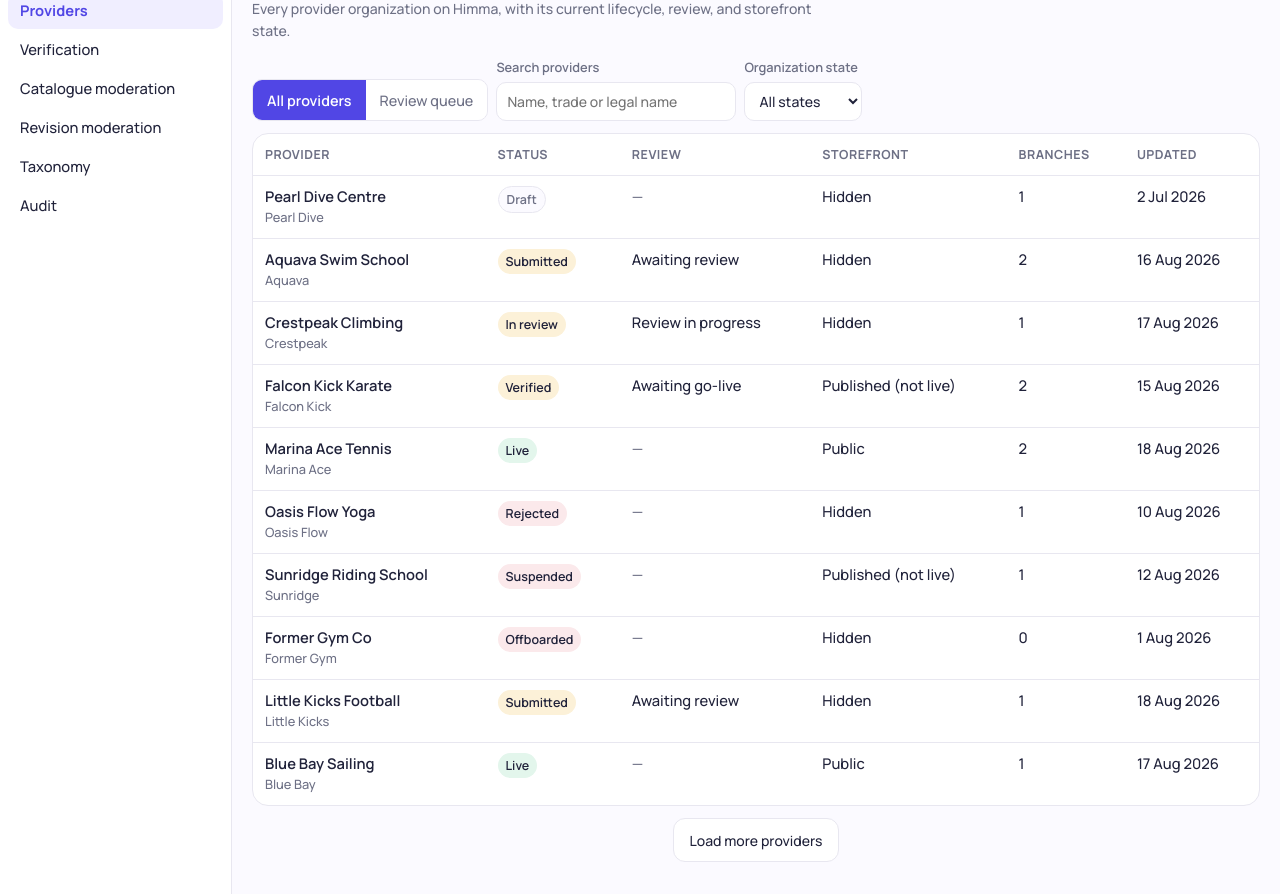
Test: provider directory (task §22) › pagination: Load more continues the SAME filtered set with a cursor; rows accumulate without duplicates
(page scrolled)
Check: the link "Marina Ace Tennis" is shown, box [265,438,392,458]
Check: the link "Skyjump Trampoline Park" is not shown
Click the button "Load more providers".
click(756, 840)  # box [673,818,839,862]
(page scrolled)
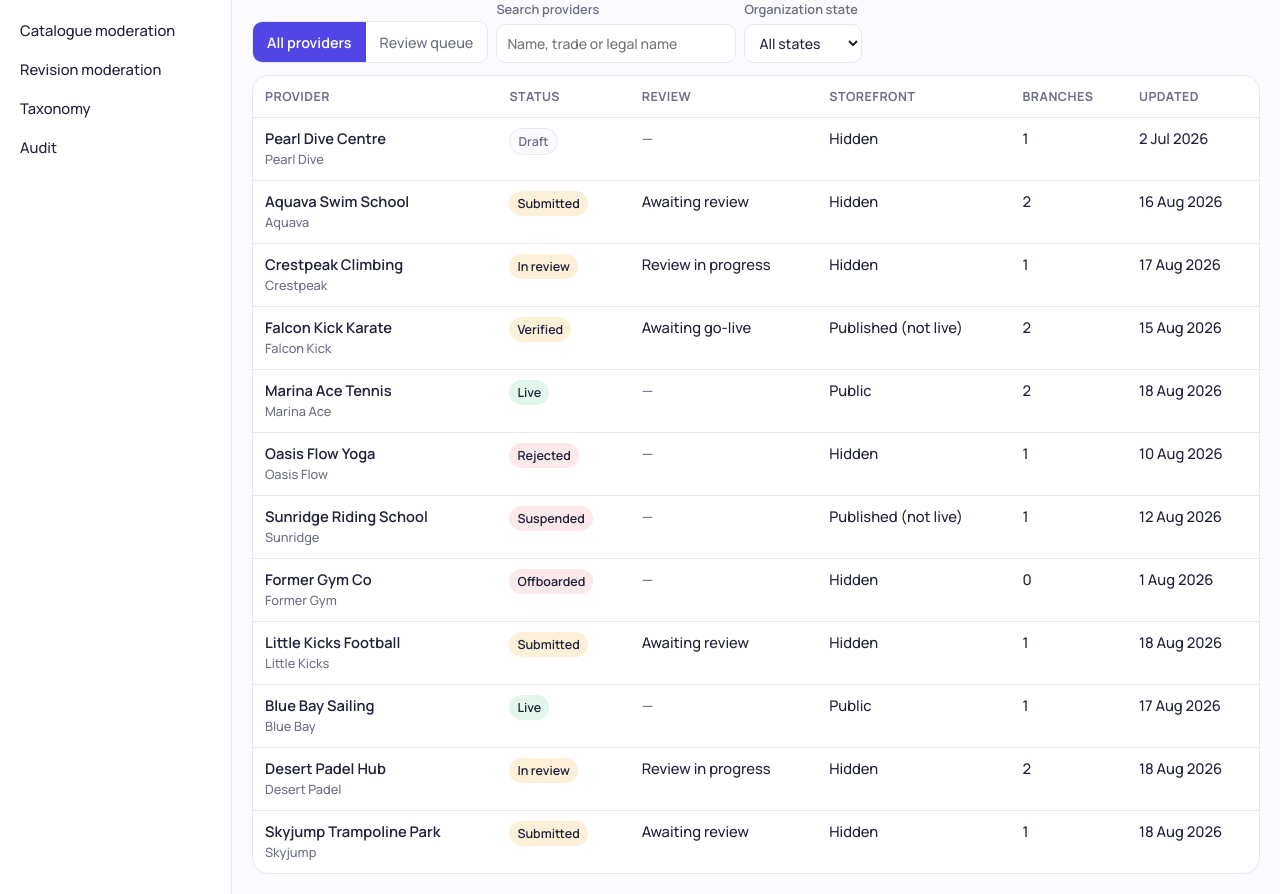
Check: the link "Skyjump Trampoline Park" is shown, box [265,821,440,841]
Check: the button "Load more providers" is gone
